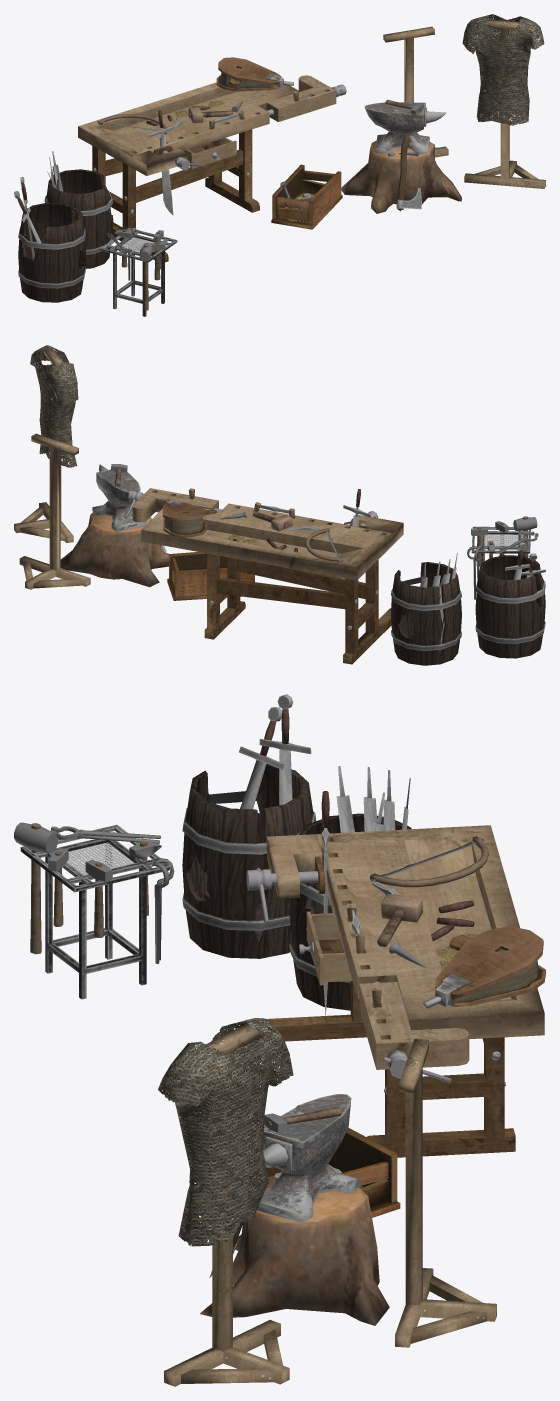
File: tools.glb
The picture shows the model from 3 angles, top to bottom: view 1: azimuth 30°, elevation 25°; view 2: azimuth 150°, elevation 25°; view 3: azimuth 270°, elevation 25°; orthographic projection. The views are drawn at different scales.
Parts seen in each view (by area): view 1: Object_2, Object_4, Object_5, Object_6, Object_3, Object_7; view 2: Object_2, Object_4, Object_6, Object_5, Object_3, Object_7; view 3: Object_2, Object_5, Object_6, Object_4, Object_3, Object_7.
Boxes of the visible parts, x1=… form: Object_2: x1=78, y1=75, x2=346, y2=262; Object_4: x1=18, y1=169, x2=177, y2=316; Object_5: x1=383, y1=14, x2=545, y2=188; Object_6: x1=216, y1=57, x2=461, y2=213; Object_3: x1=14, y1=106, x2=421, y2=259; Object_7: x1=98, y1=99, x2=424, y2=310; Object_2: x1=124, y1=488, x2=403, y2=664; Object_4: x1=391, y1=526, x2=545, y2=665; Object_6: x1=60, y1=464, x2=216, y2=587; Object_5: x1=14, y1=345, x2=90, y2=589; Object_3: x1=151, y1=489, x2=545, y2=644; Object_7: x1=111, y1=464, x2=538, y2=599; Object_2: x1=246, y1=825, x2=544, y2=1157; Object_5: x1=158, y1=1018, x2=496, y2=1386; Object_6: x1=200, y1=926, x2=545, y2=1325; Object_4: x1=20, y1=764, x2=411, y2=1010; Object_3: x1=209, y1=694, x2=474, y2=1277; Object_7: x1=14, y1=822, x2=489, y2=1190.
Size of the model in its own units: 92.22 by 29.32 by 42.27.
Materials: 6 (6 with a texture image).
